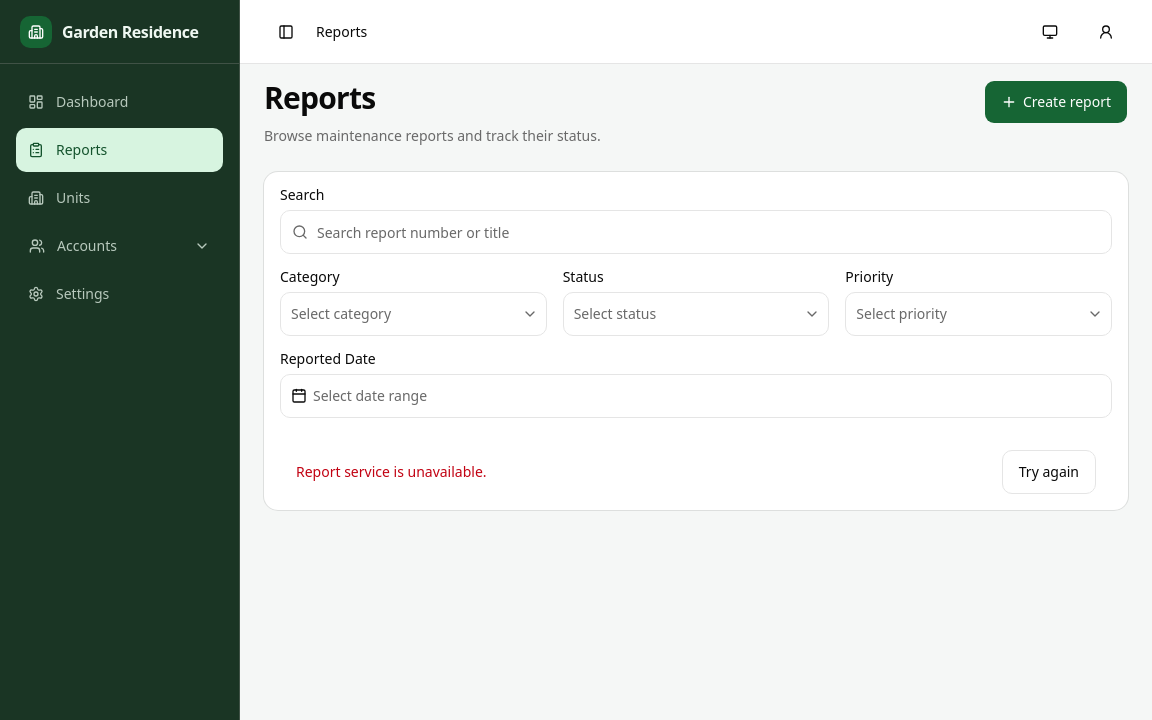
Scenario: shows backend read errors and retries successfully
Expected: the message reads "Report service is unavailable.", [296, 462, 487, 481]
Click the button "Try again" at (1049, 472), box [1002, 450, 1096, 494]
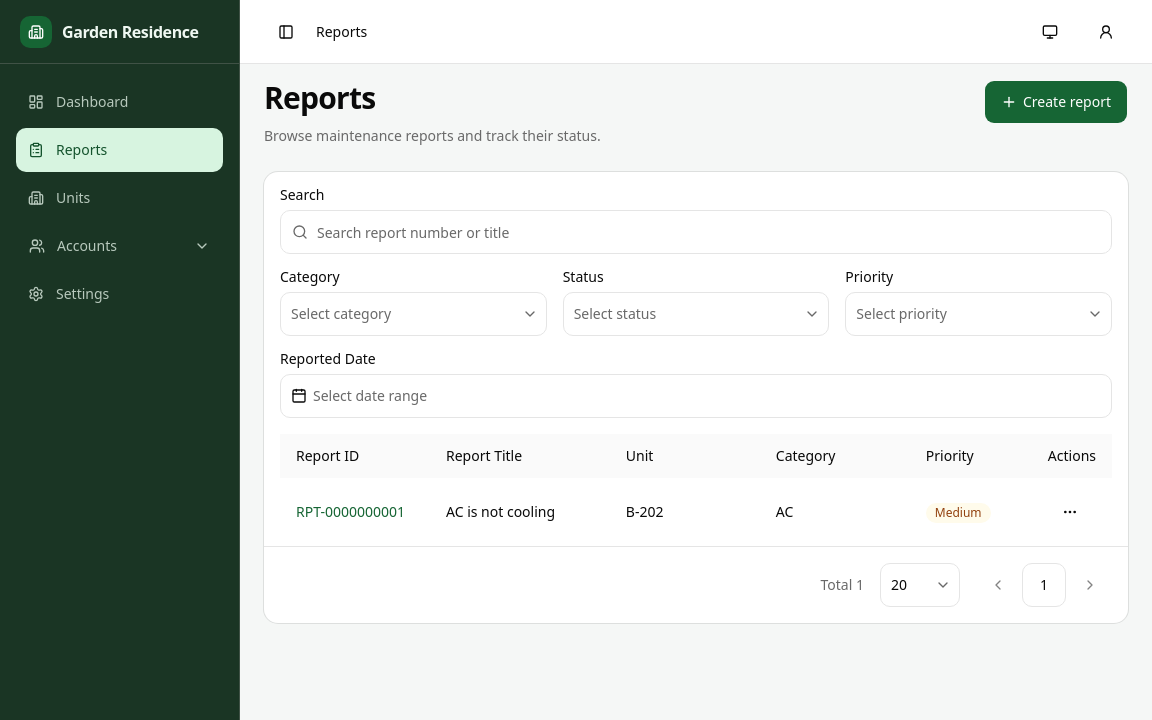
Now the table named "Reports" is shown, box [280, 434, 1112, 546]
